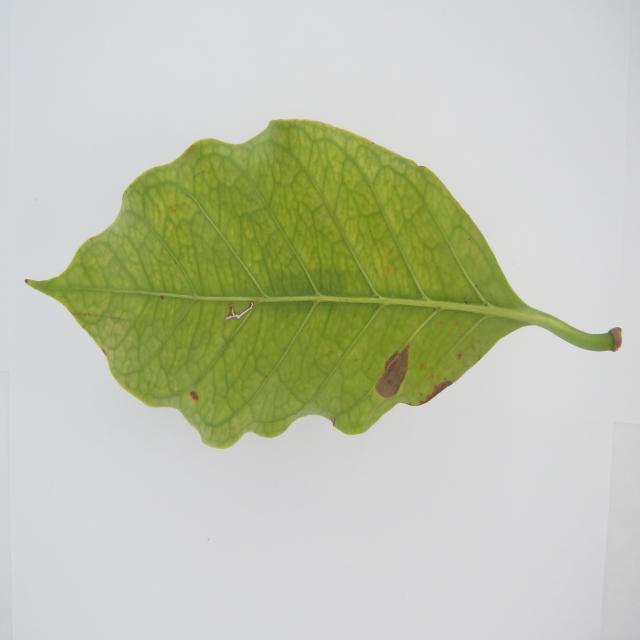DeficienciaNutricional-Calcio: (28, 120, 621, 448)
